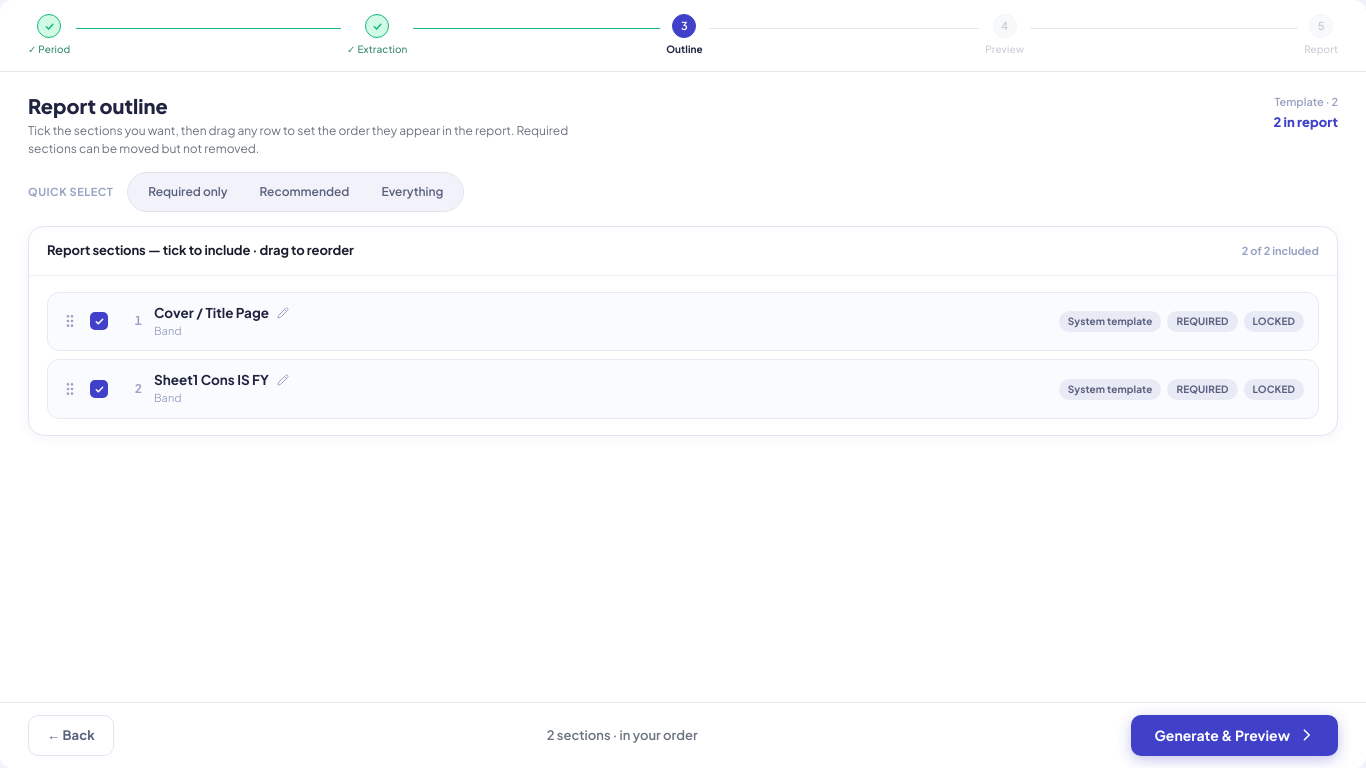
Test: renaming a section on the outline › Escape restores the old name and saves nothing
Expected: the text "Cover / Title Page" is shown, [154,304,269,322]
Click the button named "Rename Sheet1 Cons IS FY".
click(283, 380)  # box [275,372,291,388]
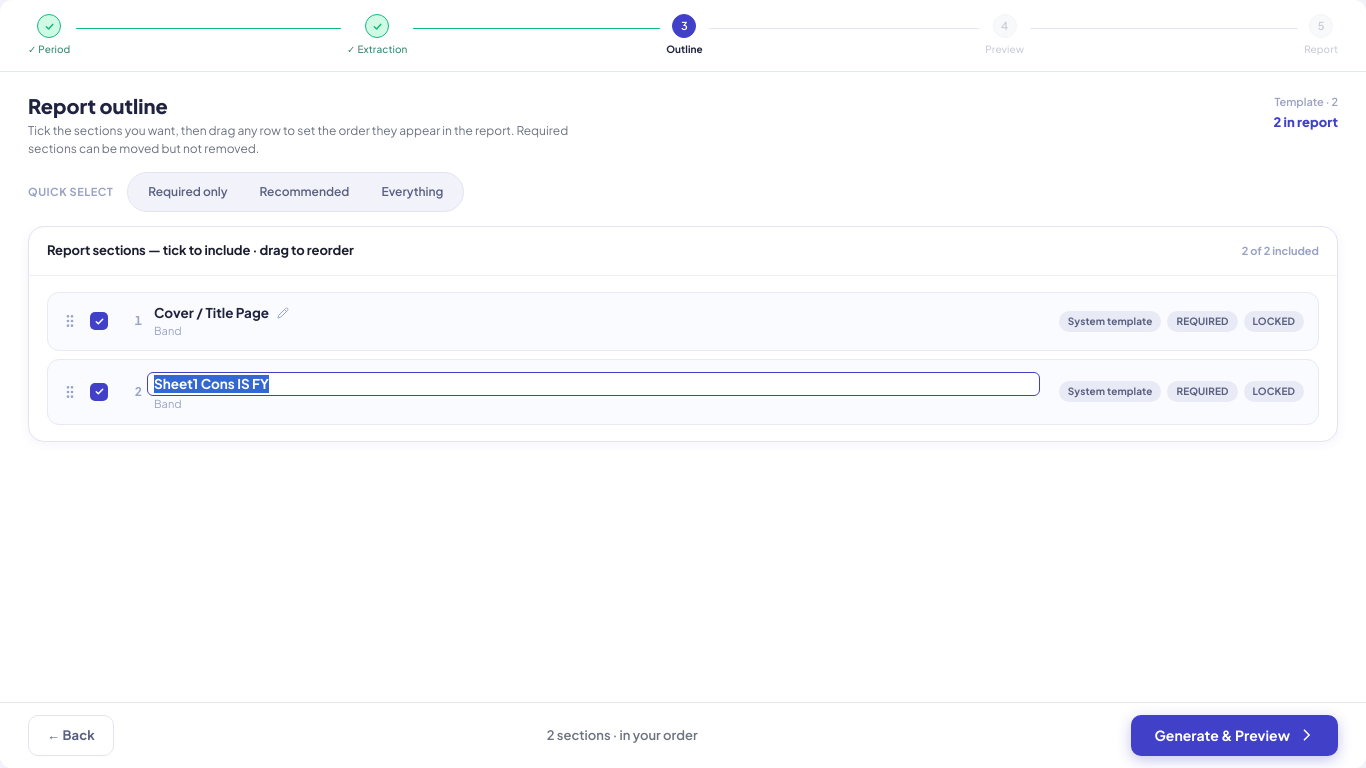
Replace the text in the field named "Section name for" with "Never mind" at x=593, y=384, box [147,372,1040,396]
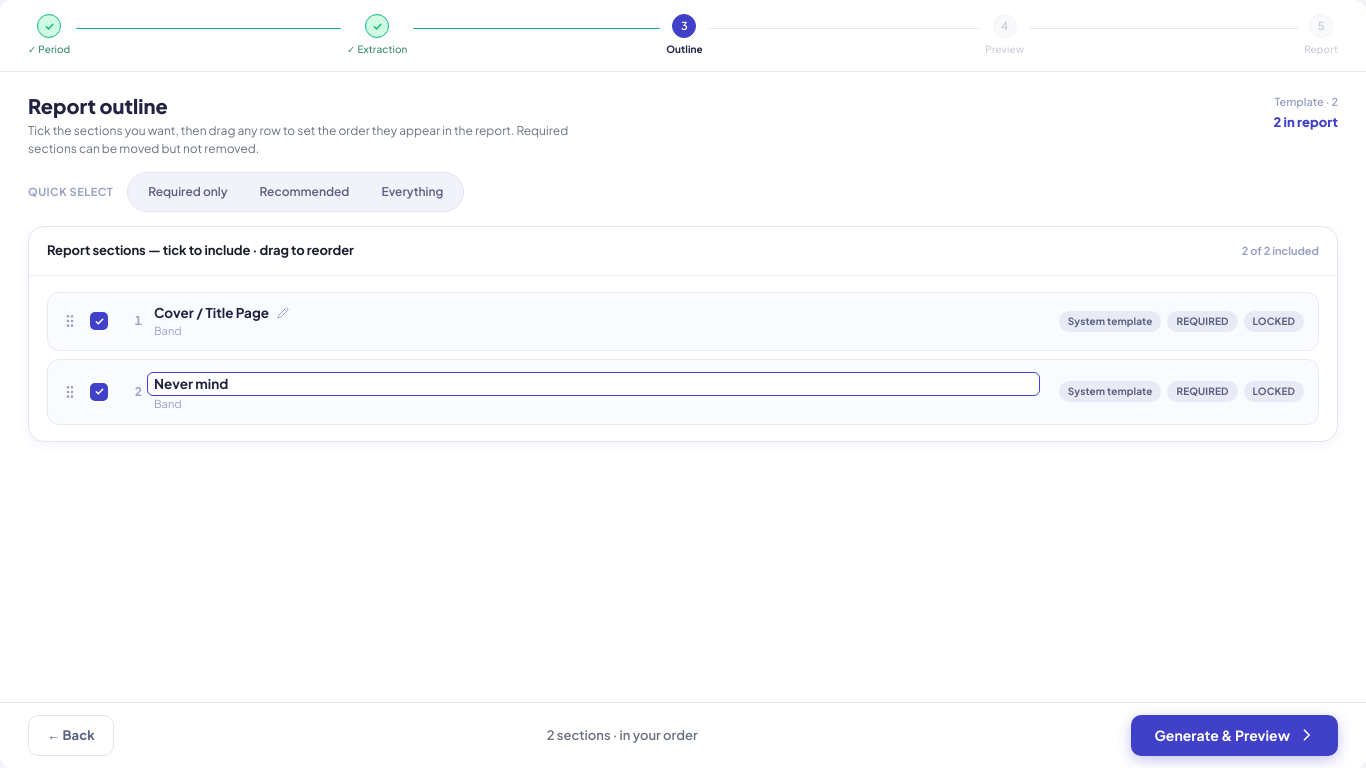
Press Escape in the field named "Section name for", box [147,372,1040,396]
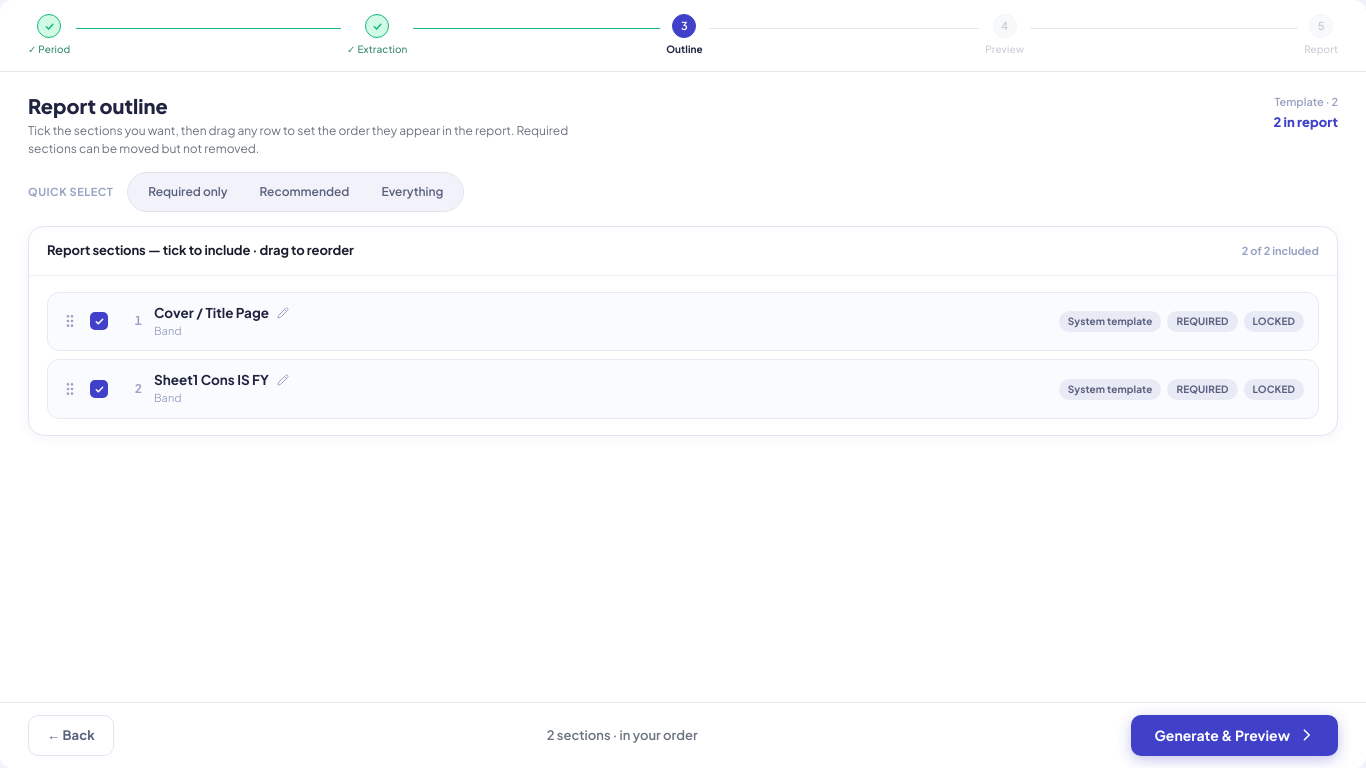
Expected: the text "Sheet1 Cons IS FY" is shown, [154,371,269,389]
